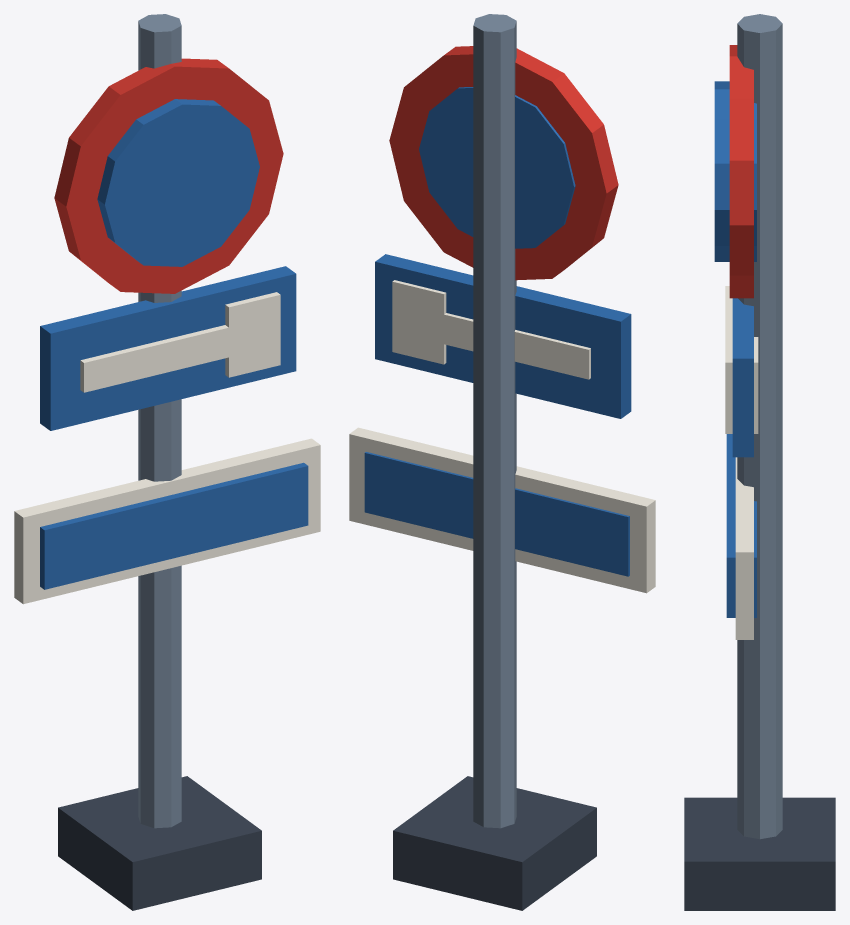
Rendered from cittaCartelli.glb.
3 renders of one model, left to right at view 1: azimuth 30°, elevation 25°; view 2: azimuth 150°, elevation 25°; view 3: azimuth 270°, elevation 25°, orthographic.
Visible parts, largest first — view 1: cittaCartelli_blue, cittaCartelli_white, cittaCartelli_red, cittaCartelli_steelDark, cittaCartelli_steel; view 2: cittaCartelli_blue, cittaCartelli_steel, cittaCartelli_white, cittaCartelli_red, cittaCartelli_steelDark; view 3: cittaCartelli_steel, cittaCartelli_steelDark, cittaCartelli_blue, cittaCartelli_red, cittaCartelli_white.
Part boxes in pixels (x1,y1,x2,y2): cittaCartelli_blue: [40, 99, 308, 589]; cittaCartelli_white: [14, 292, 320, 604]; cittaCartelli_red: [54, 58, 283, 293]; cittaCartelli_steelDark: [58, 776, 261, 910]; cittaCartelli_steel: [138, 14, 181, 828]; cittaCartelli_blue: [364, 87, 631, 576]; cittaCartelli_steel: [473, 14, 516, 828]; cittaCartelli_white: [349, 280, 655, 593]; cittaCartelli_red: [389, 46, 618, 280]; cittaCartelli_steelDark: [393, 776, 596, 910]; cittaCartelli_steel: [737, 14, 782, 839]; cittaCartelli_steelDark: [684, 797, 835, 910]; cittaCartelli_blue: [714, 81, 756, 617]; cittaCartelli_red: [729, 45, 753, 298]; cittaCartelli_white: [725, 286, 758, 639].
Bounding box in the file's own units: 1.15 × 3.12 × 0.5.
